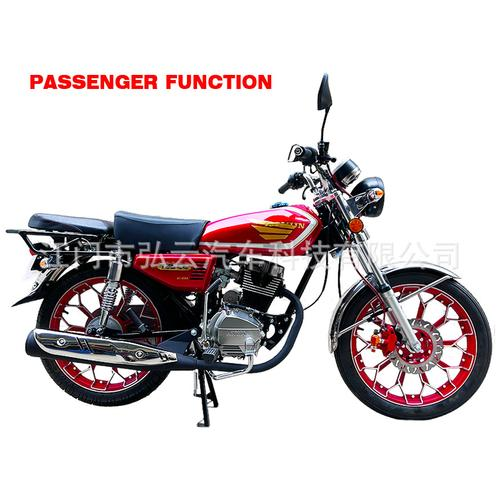摩托车: (17, 123, 500, 436)
